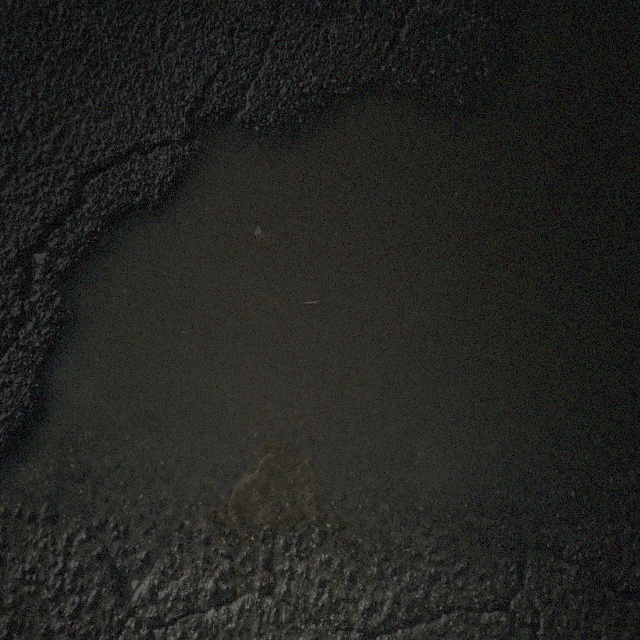pothole: (20, 70, 478, 496)
